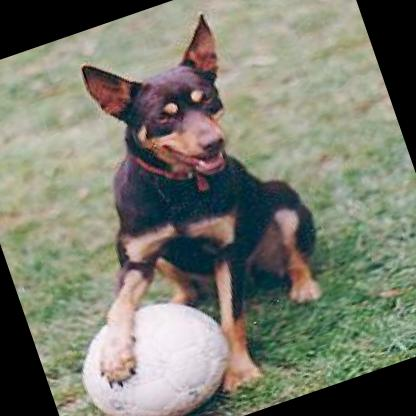kelpie: (0, 0, 359, 416)
